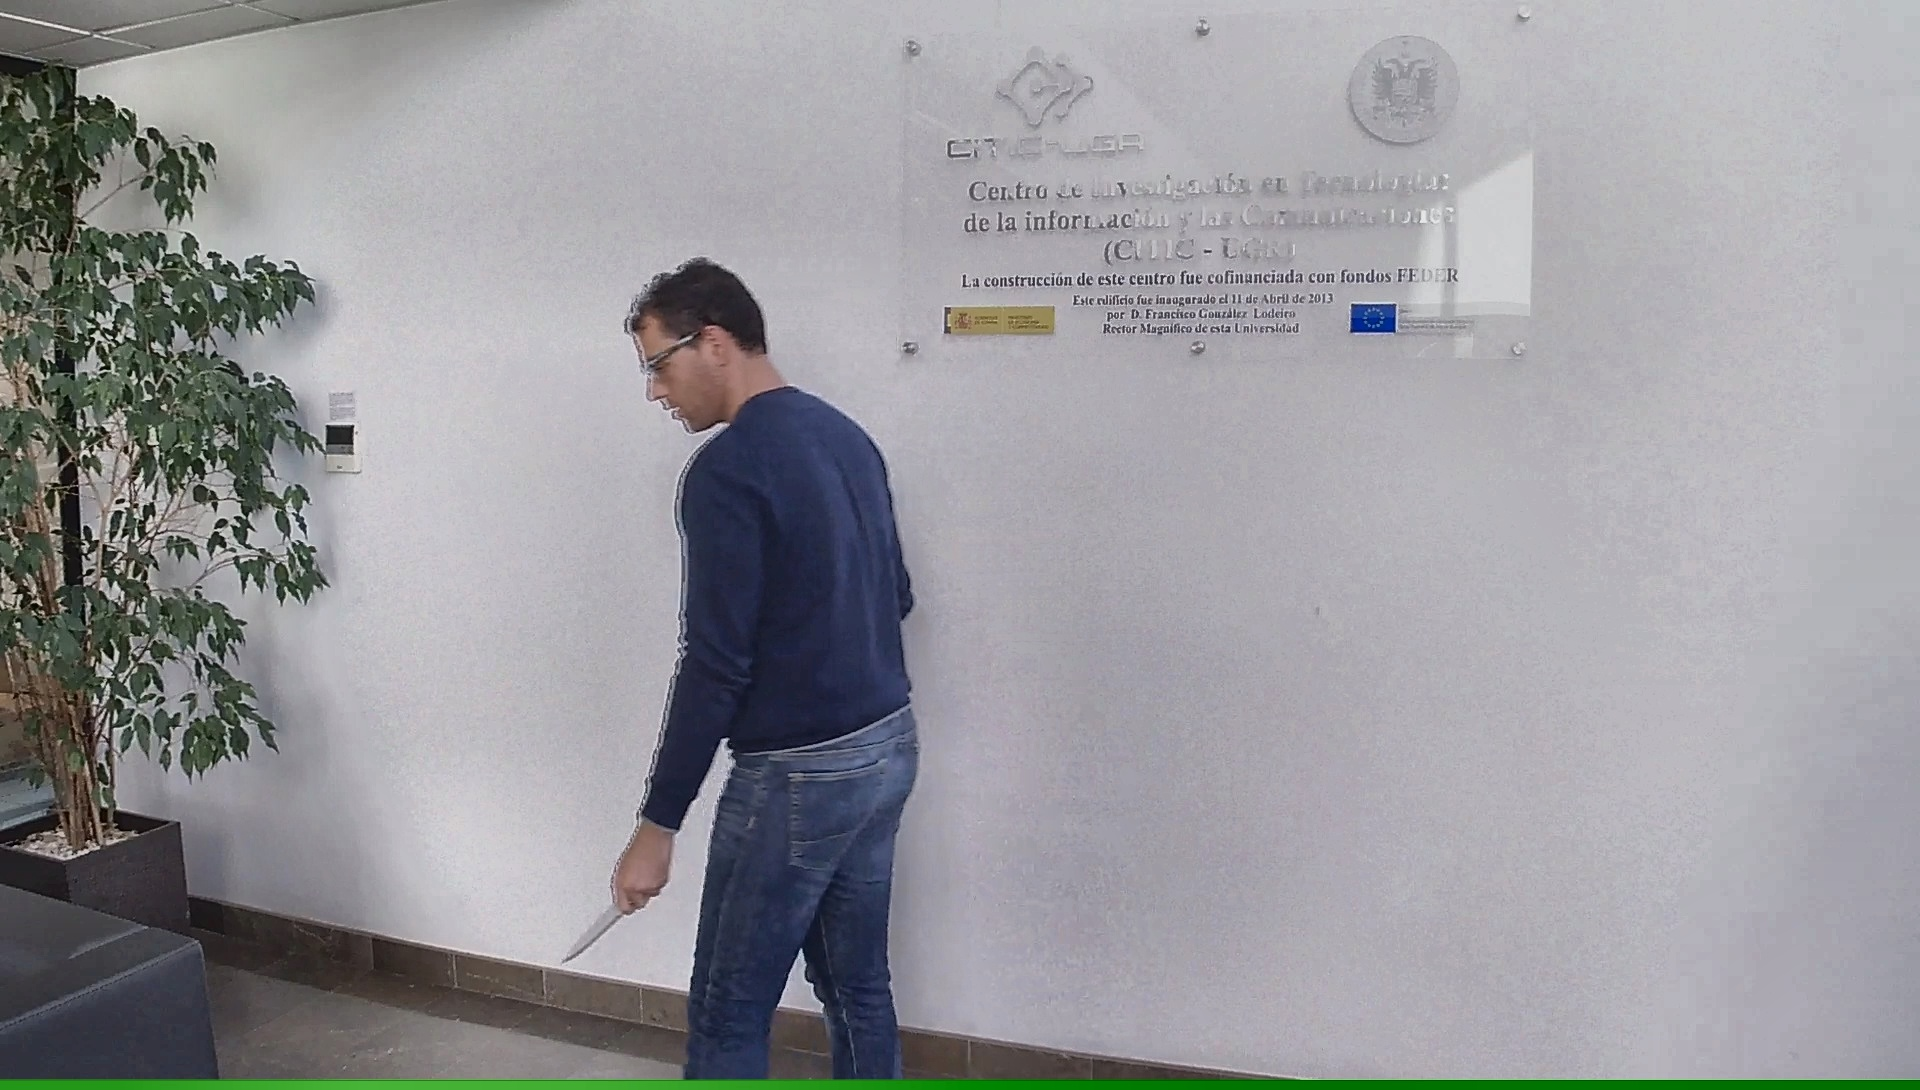knife: (556, 865, 661, 967)
